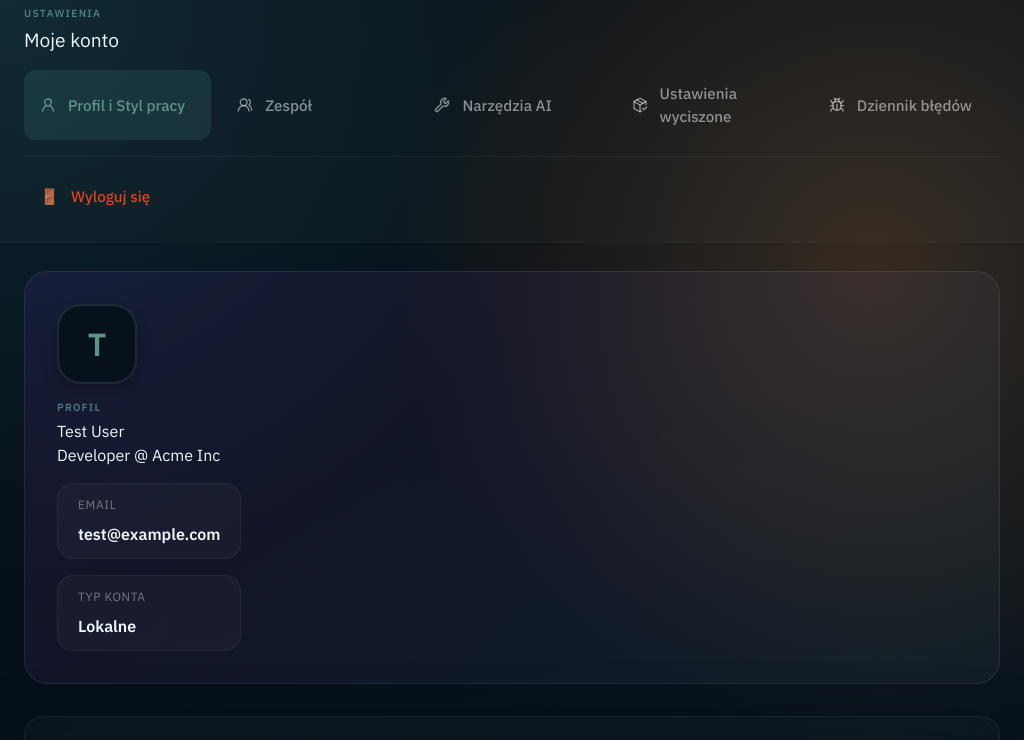
ProfileTab › Integrations reference view › exposes review settings alongside integrations
Click the button "Ustawienia wyciszone" at (709, 105), box [616,70,803,140]
(page scrolled)
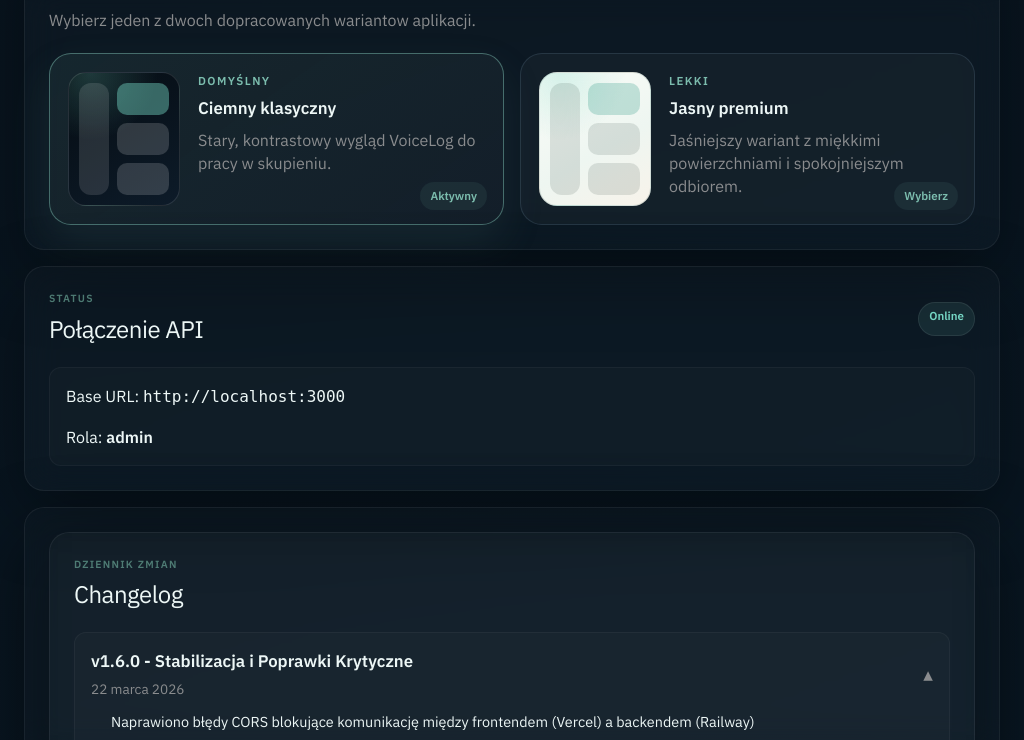
Result: the heading "Changelog" is shown at [74,576,183,612]
Result: the heading "Połączenie API" is shown at [49,311,203,347]
